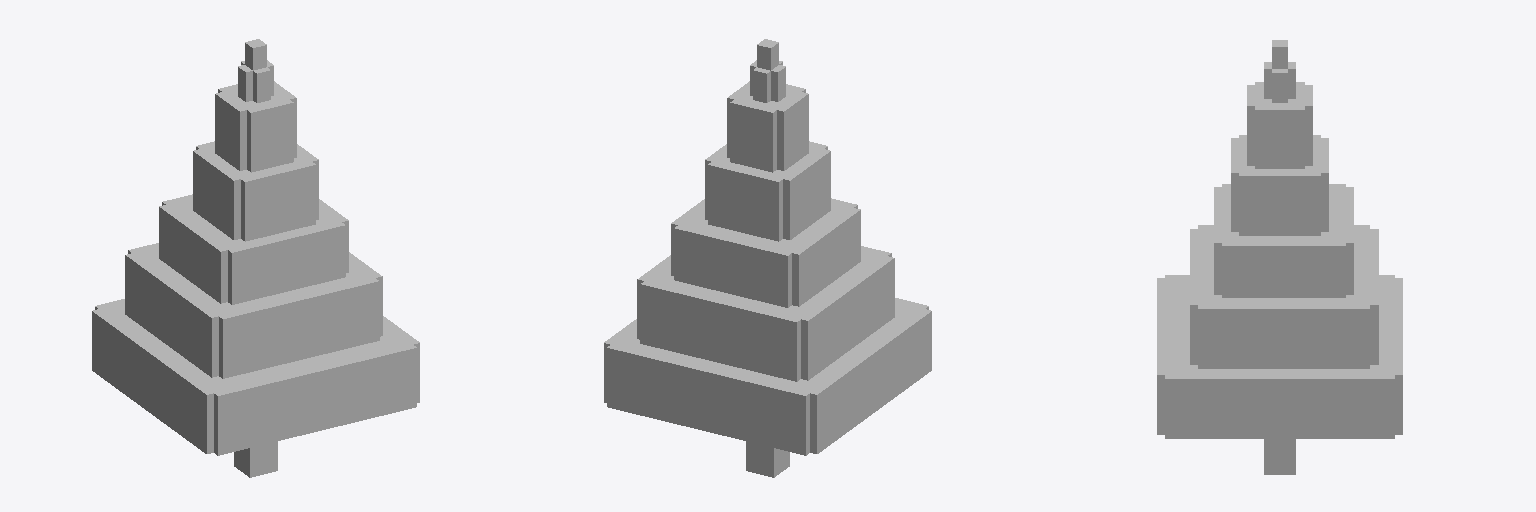
File: Christmas tree_4.obj
3 renders of one model, left to right at view 1: azimuth 30°, elevation 25°; view 2: azimuth 150°, elevation 25°; view 3: azimuth 270°, elevation 25°, orthographic.
Parts seen in each view (by area): view 1: object 1; view 2: object 1; view 3: object 1.
Part boxes in pixels (left/top/right/bottom): object 1: left=92, top=39, right=419, bottom=477; object 1: left=604, top=39, right=931, bottom=477; object 1: left=1157, top=40, right=1402, bottom=474.
Size of the model in its own units: 3 by 5.7 by 3.